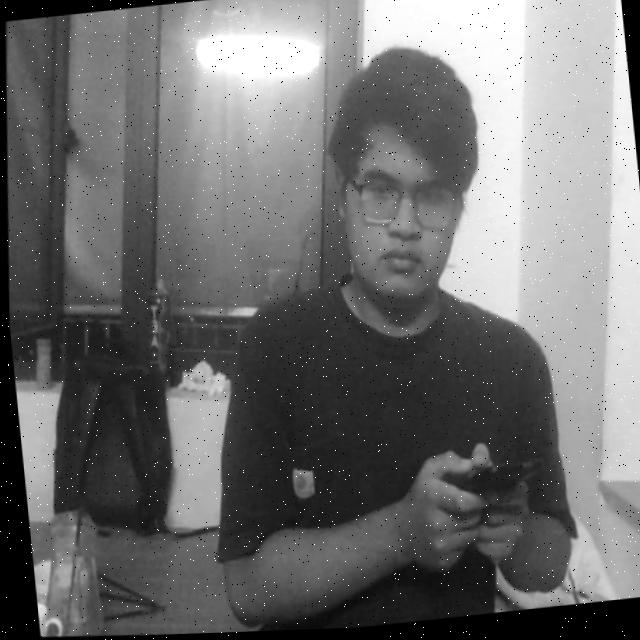phone: (424, 429, 545, 531)
